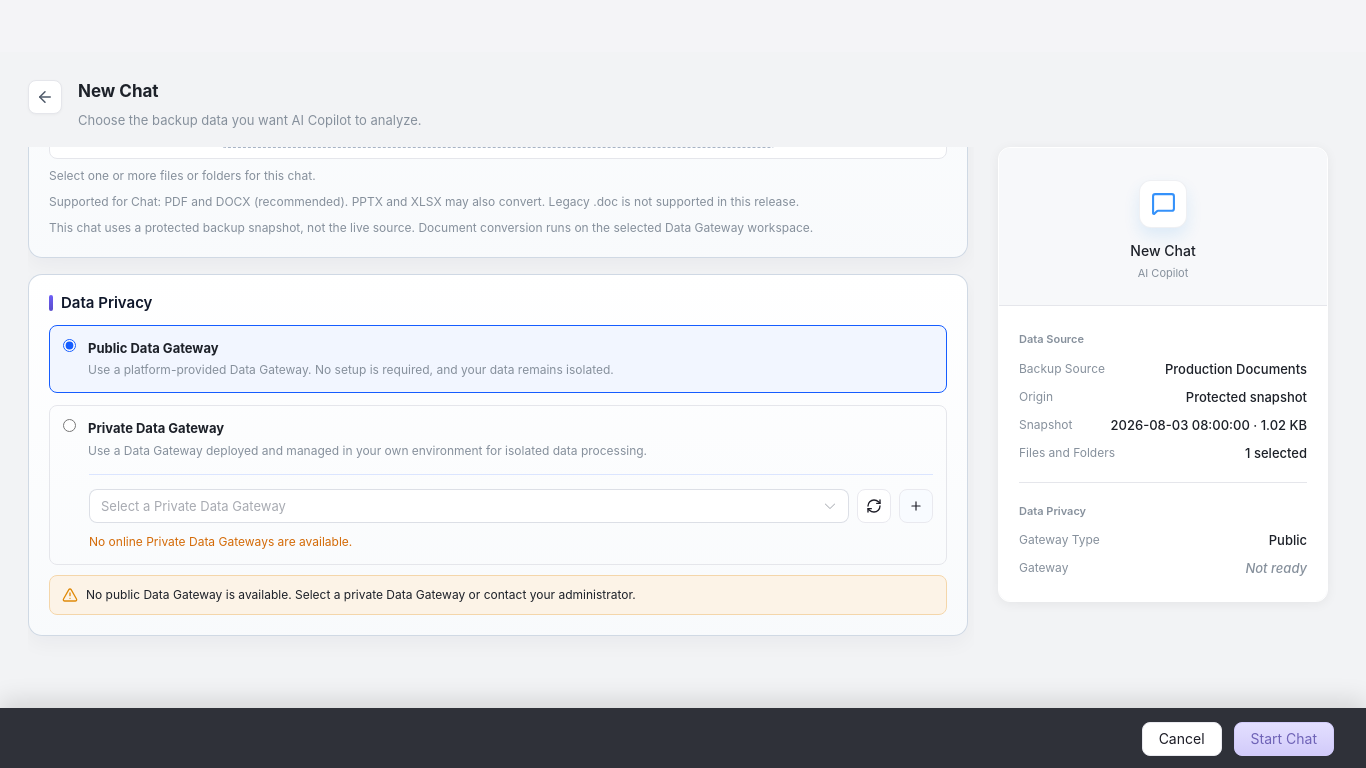
Test: New Chat Public Data Gateway warning › removes the warning when a Public Data Gateway becomes available
(page scrolled)
Expected: the message with class "new-chat-gateway-warning" is shown, x1=49 y1=575 x2=947 y2=615
Click the button with class "new-chat-gateway-select-row__refresh".
click(874, 506)  # box x1=857 y1=489 x2=891 y2=523
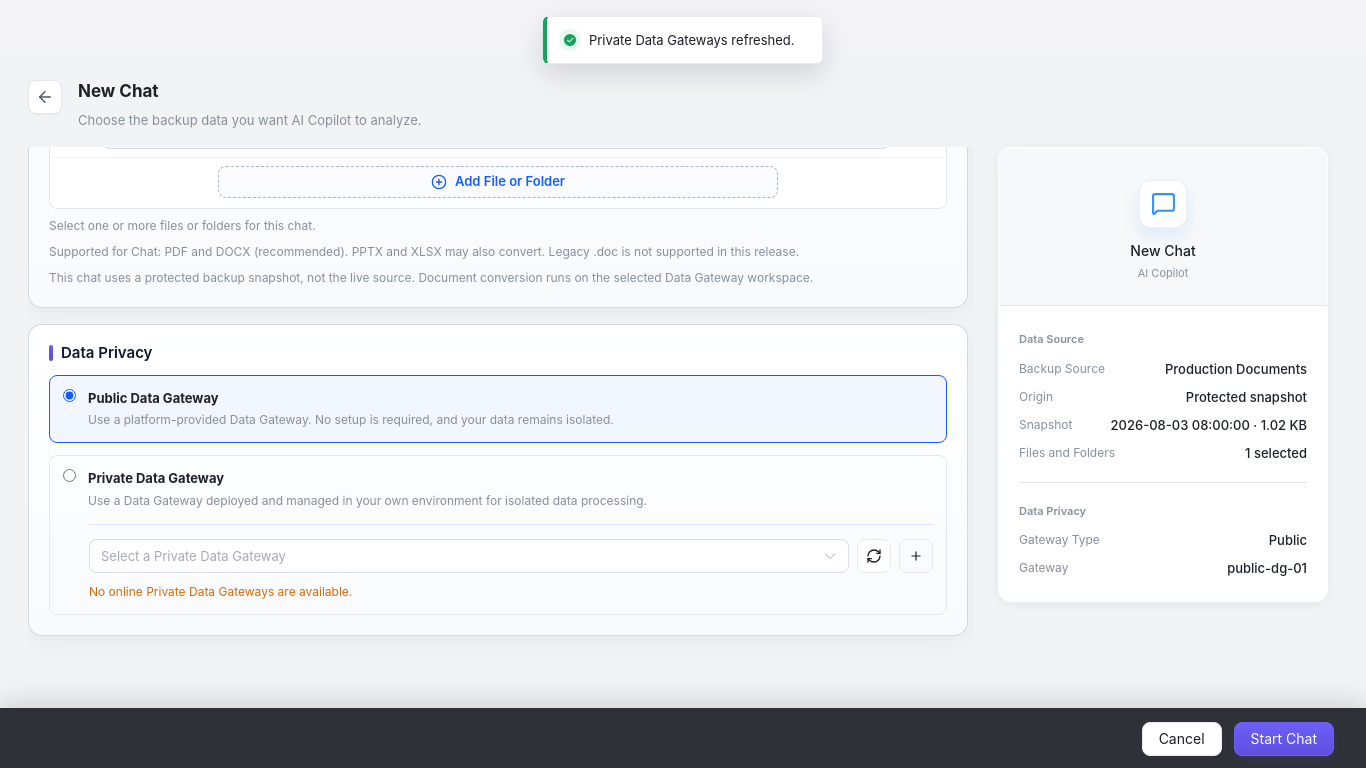
Expected: the button "Start Chat" is enabled, x1=1234 y1=722 x2=1334 y2=756
